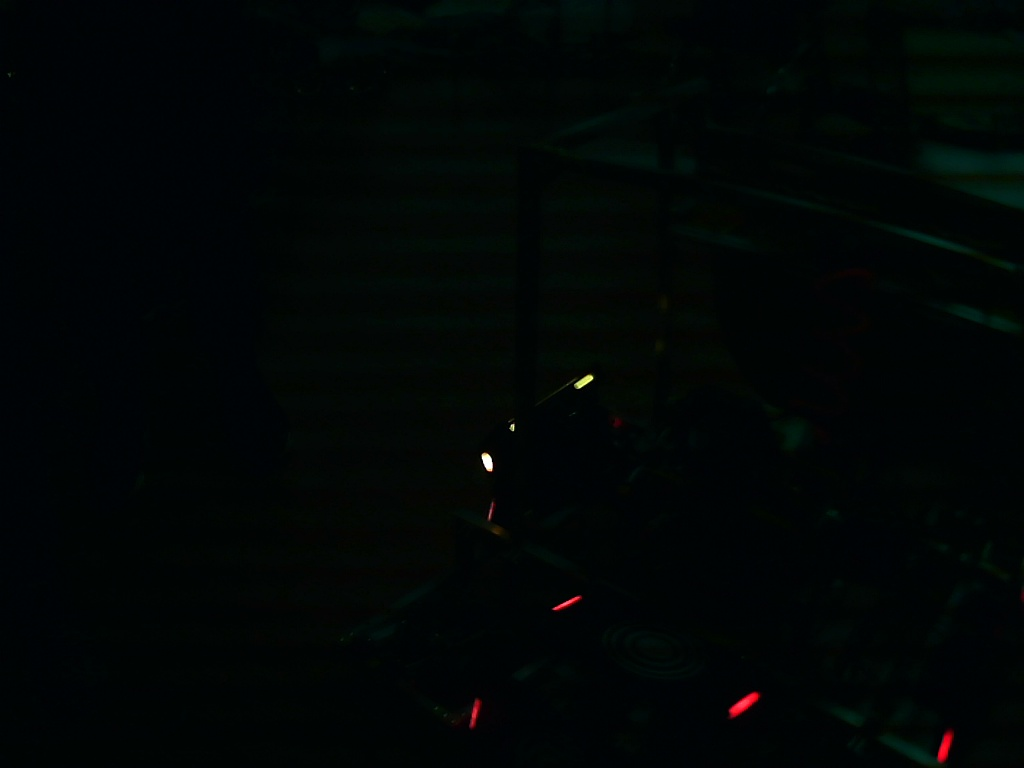lamp: (935, 729, 955, 764), (464, 696, 483, 730)
